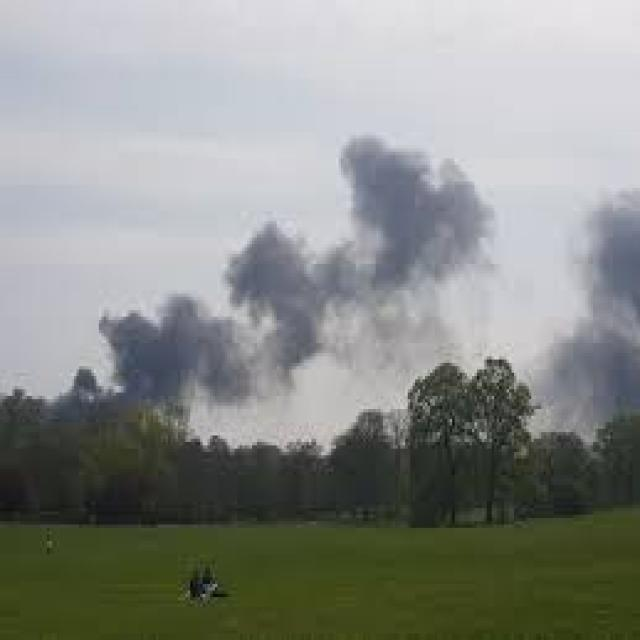Smoke: (51, 132, 508, 427), (521, 185, 640, 442)
